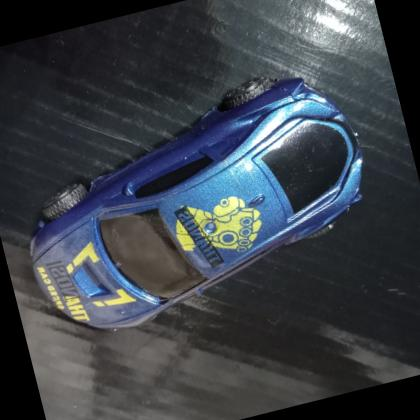Car: (28, 75, 363, 328)
